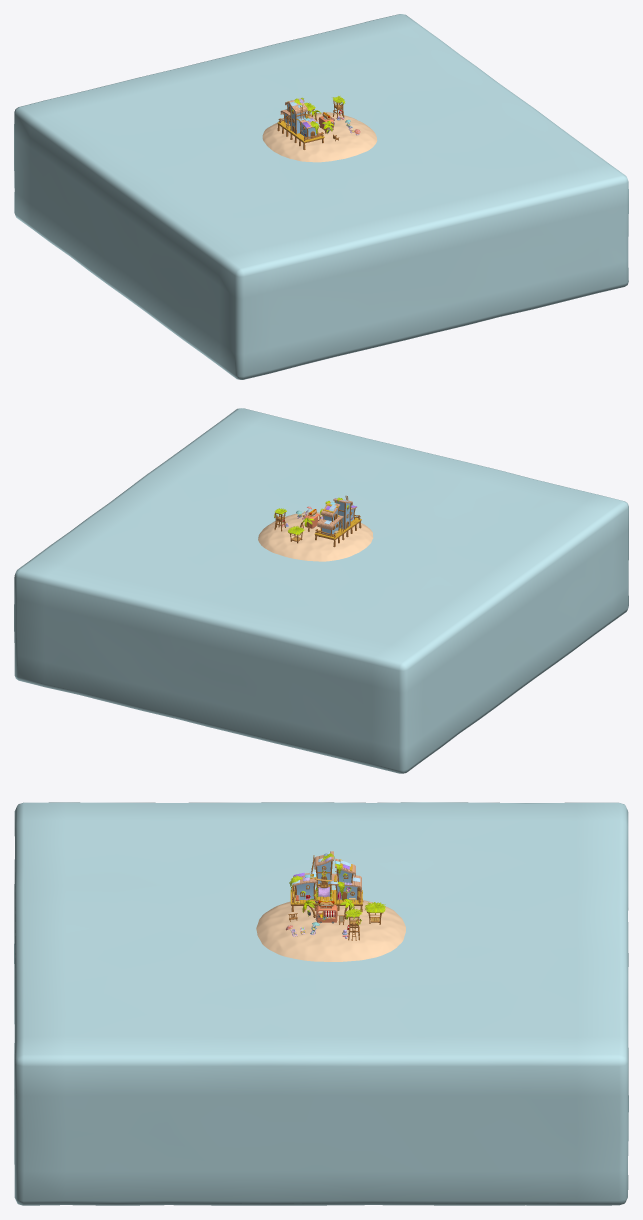
Rendered from MainIsland.fbx.
The picture shows the model from 3 angles, top to bottom: view 1: azimuth 30°, elevation 25°; view 2: azimuth 150°, elevation 25°; view 3: azimuth 270°, elevation 25°; orthographic projection. The views are drawn at different scales.
Visible parts, largest first — view 1: Plane.250_Plane.2737_Material.047, Plane.005_Plane.007_Material.002; view 2: Plane.250_Plane.2737_Material.047, Plane.005_Plane.007_Material.002; view 3: Plane.250_Plane.2737_Material.047, Plane.005_Plane.007_Material.002.
Boxes of the visible parts, left/top/right/bottom form: Plane.250_Plane.2737_Material.047: left=14, top=14, right=628, bottom=379; Plane.005_Plane.007_Material.002: left=262, top=112, right=377, bottom=162; Plane.250_Plane.2737_Material.047: left=14, top=408, right=628, bottom=773; Plane.005_Plane.007_Material.002: left=258, top=512, right=373, bottom=561; Plane.250_Plane.2737_Material.047: left=14, top=802, right=628, bottom=1205; Plane.005_Plane.007_Material.002: left=256, top=897, right=405, bottom=961.
Bounding box in the file's own units: 10705 × 4070 × 10704.
